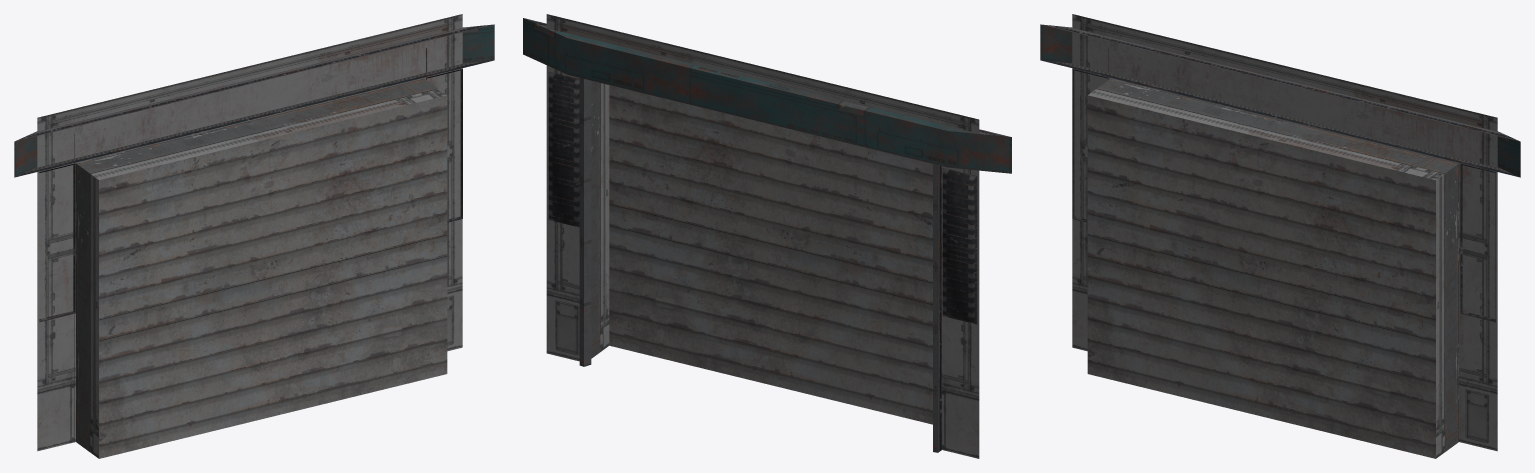
File: ARC0910218.fbx
3 views of the same model, side by side, from view 1: azimuth 30°, elevation 25°; view 2: azimuth 150°, elevation 25°; view 3: azimuth 330°, elevation 25° (orthographic).
Parts seen in each view (by area): view 1: smARC0910218; view 2: smARC0910218; view 3: smARC0910218.
Boxes of the visible parts, x1,y1,x2,y2 form: smARC0910218: (14,14,494,458); smARC0910218: (523,14,1011,458); smARC0910218: (1040,14,1520,458).
Size of the model in its own units: 452 by 300 by 46.03.
Materials: 1 (1 with a texture image).
